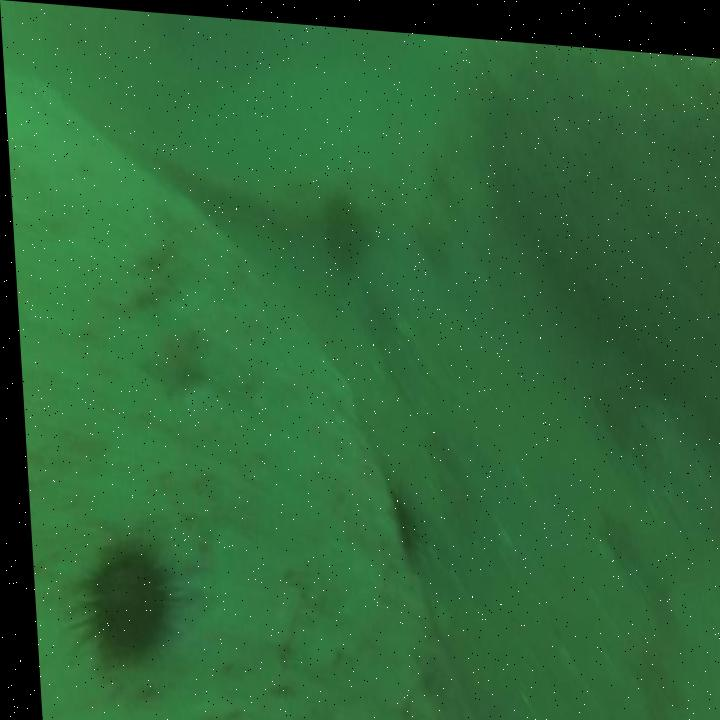echinus: (76, 530, 169, 674), (320, 171, 369, 272)
starfish: (130, 317, 206, 405), (590, 489, 636, 558)
